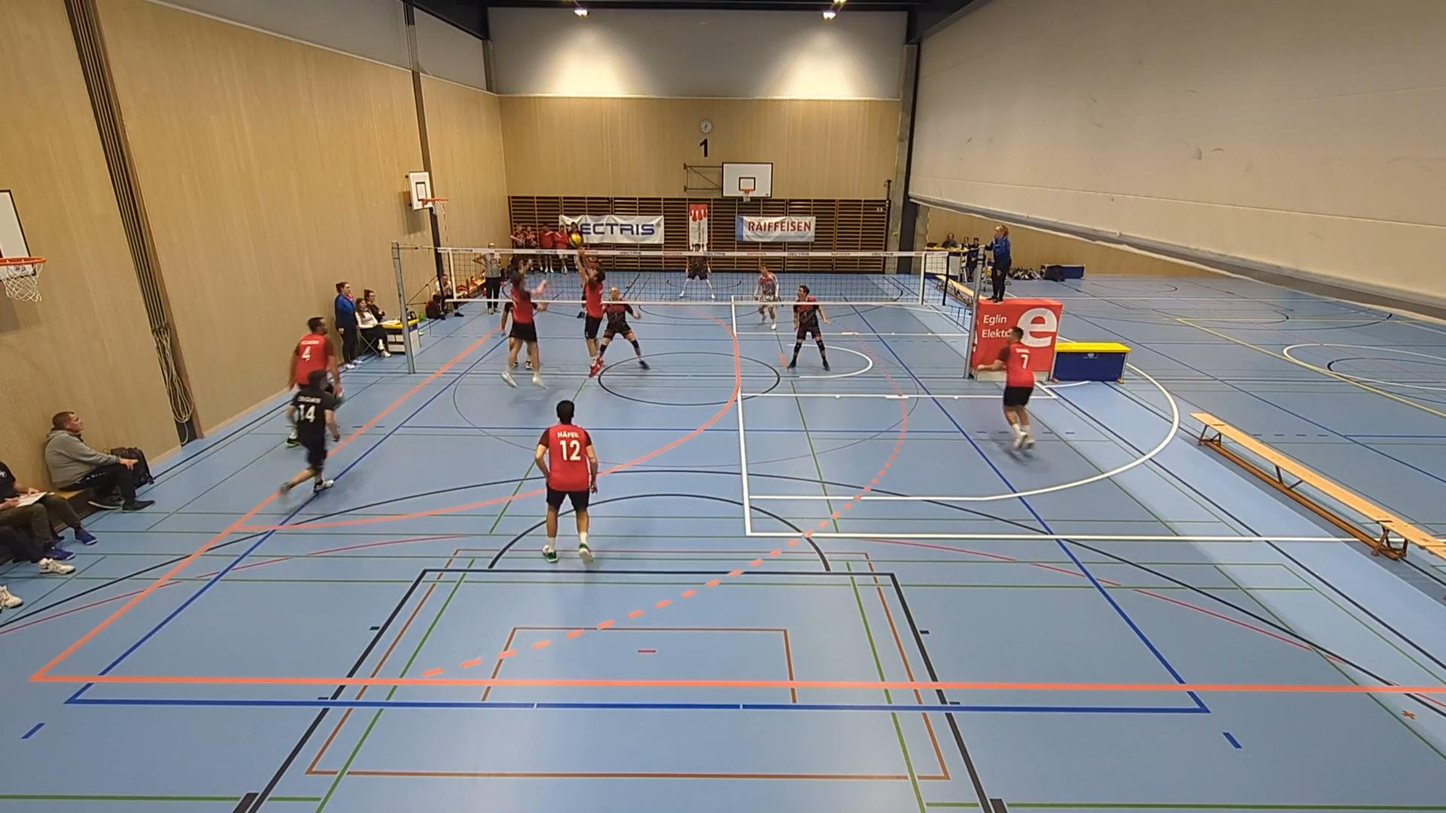Attack: (500, 269, 555, 388)
Player: (535, 400, 597, 562), (279, 370, 340, 494), (976, 327, 1035, 448), (589, 286, 648, 376), (290, 317, 341, 397), (788, 285, 830, 370), (754, 260, 778, 328), (679, 254, 715, 298)
Set: (572, 247, 617, 371)
ball: (568, 231, 587, 245)
